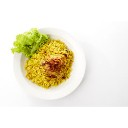briyani: (28, 43, 69, 86)
